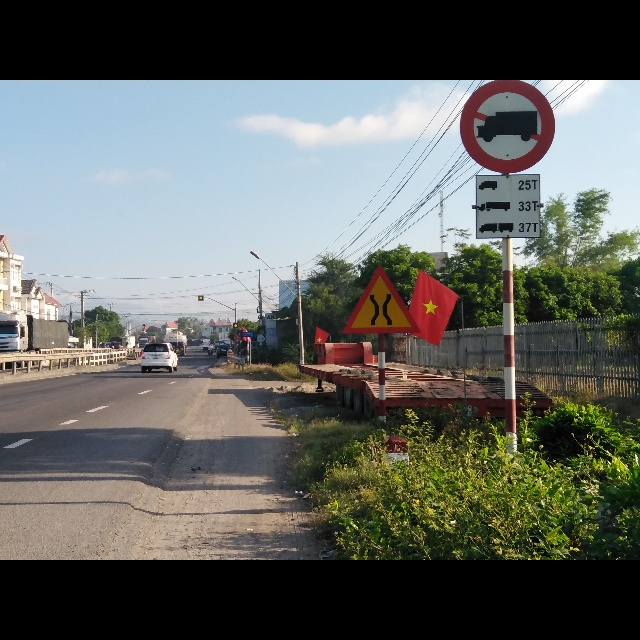Cấm xe tải: (459, 82, 557, 172)
Cầu hẹp: (340, 264, 423, 337)
